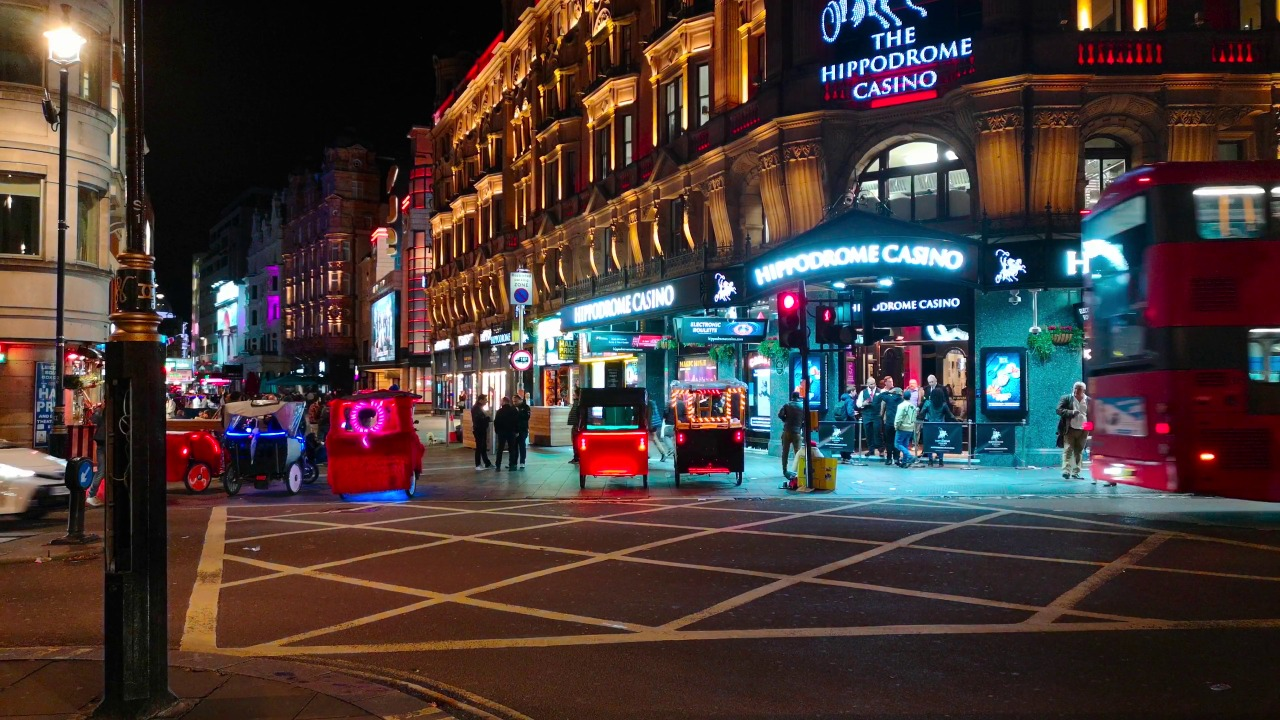car: (1087, 159, 1280, 503), (326, 388, 426, 502), (222, 395, 320, 497), (670, 381, 746, 487), (577, 385, 650, 491), (1, 435, 73, 520), (160, 433, 224, 493)
person: (1053, 380, 1093, 480), (834, 384, 865, 468), (467, 395, 498, 475), (787, 439, 836, 489), (777, 389, 803, 477), (924, 389, 952, 468), (92, 393, 110, 508), (638, 393, 667, 464), (492, 394, 517, 474), (881, 387, 905, 467), (862, 377, 884, 455), (897, 388, 917, 468), (663, 394, 686, 458), (512, 396, 531, 472), (569, 392, 581, 466), (308, 392, 324, 429), (903, 376, 924, 402), (926, 375, 942, 396), (522, 390, 534, 405), (880, 375, 890, 384)
